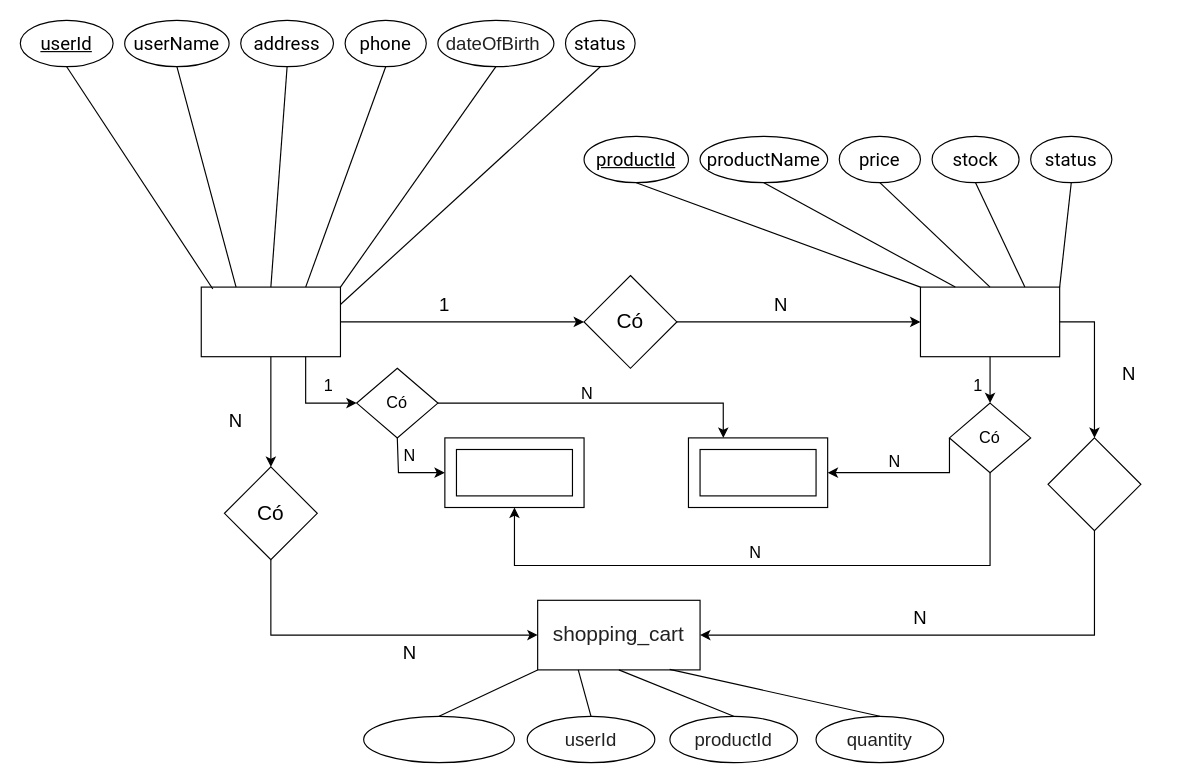
Some shapes in this 1184 by 783 pixel diagram are drawn without their labels. Each missing label, with the box of its shape:
comment: (455, 448, 572, 496)
product: (919, 286, 1060, 357)
shoppingCartId: (362, 715, 514, 763)
thuộc: (1047, 437, 1141, 531)
users: (200, 286, 340, 357)
wishlist: (699, 448, 816, 496)
